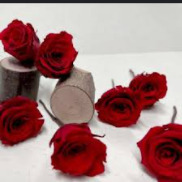RedRose: (53, 121, 107, 174), (140, 121, 180, 181), (39, 18, 79, 76), (1, 14, 39, 71), (0, 96, 44, 142), (98, 86, 142, 128), (131, 62, 170, 108)
